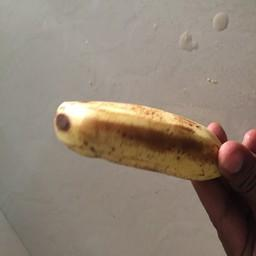Banana Ripe: (44, 81, 242, 195)
